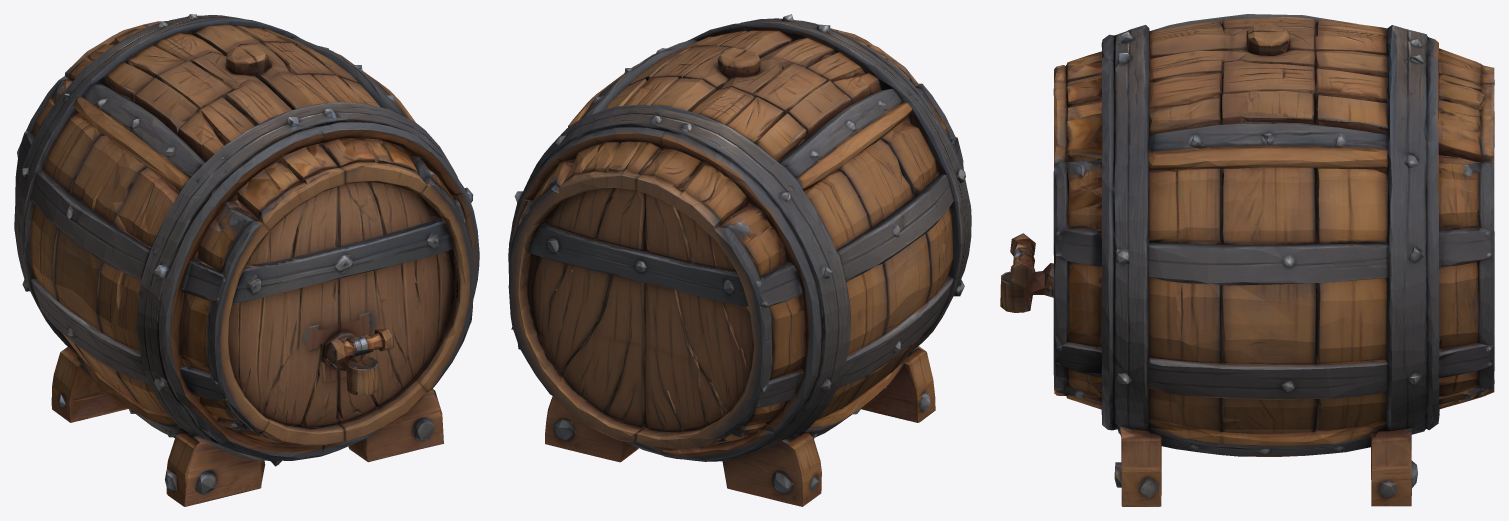
Rendered from barrel.glb.
3 views of the same model, side by side, from view 1: azimuth 30°, elevation 25°; view 2: azimuth 150°, elevation 25°; view 3: azimuth 270°, elevation 25° (orthographic). The views are drawn at different scales.
Visible parts, largest first — view 1: temp_0; view 2: temp_0; view 3: temp_0.
Part boxes in pixels (left/top/right/bottom): temp_0: left=14, top=14, right=479, bottom=506; temp_0: left=508, top=14, right=971, bottom=506; temp_0: left=1000, top=14, right=1494, bottom=506.
Bounding box in the file's own units: 1.75 × 1.82 × 2.
Materials: 1 (1 with a texture image).
